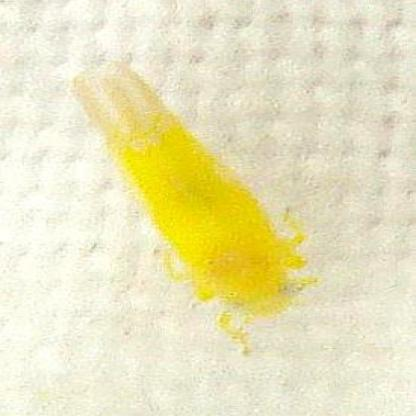green-leafhopper: (67, 60, 318, 327)
